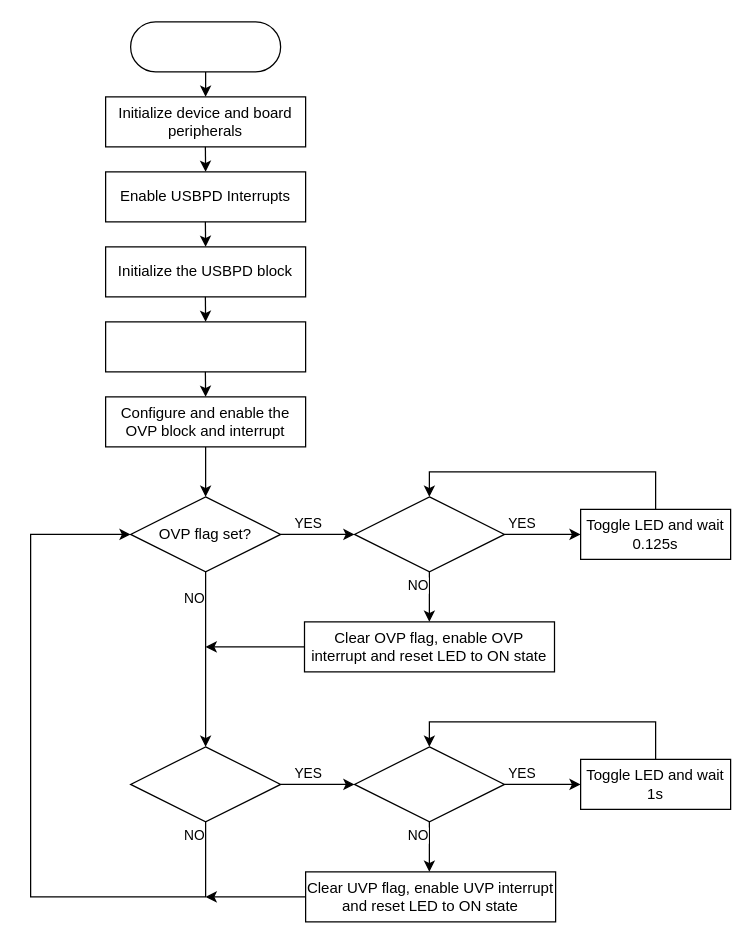
Some shapes in this 753 by 944 pixel diagram are drawn without their labels. Here are the shapes that lost their labels. From the top down, the centre of each, then its label:
At [205,46]: "Start".
At [205,346]: "Configure and enable the UVP block and interrupt".
At [428,534]: "OV on VBUS?".
At [205,784]: "UVP flag set?".
At [428,784]: "UV on VBUS?".
